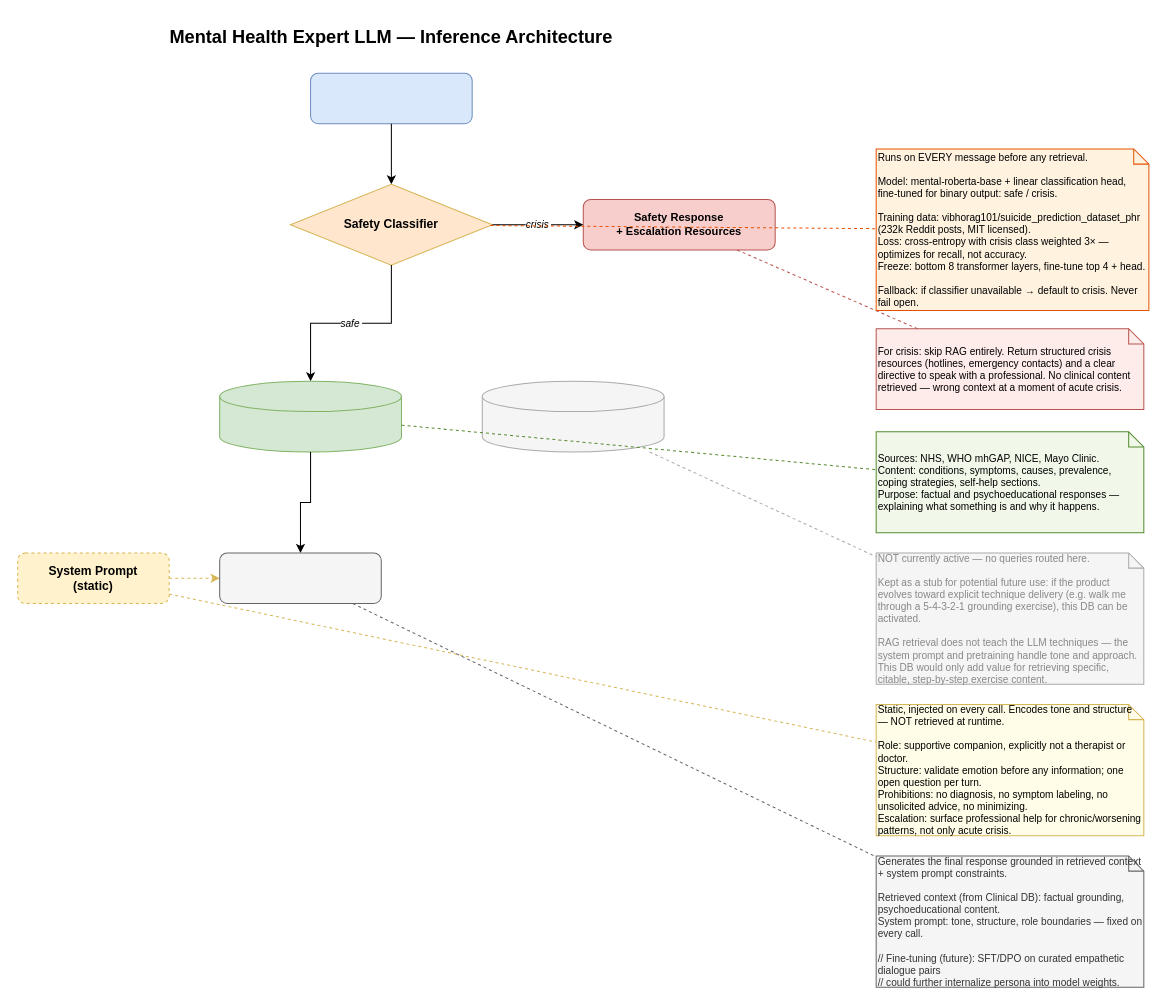
This 1167x1005 diagram has some shape labels left out. Here are the shapes that lost their labels. From the top down, the centre of each, then its label:
At [391,98]: "User Message".
At [310,416]: "Clinical Knowledge DB".
At [572,416]: "Therapy Techniques DB (inactive)".
At [300,577]: "LLM".
